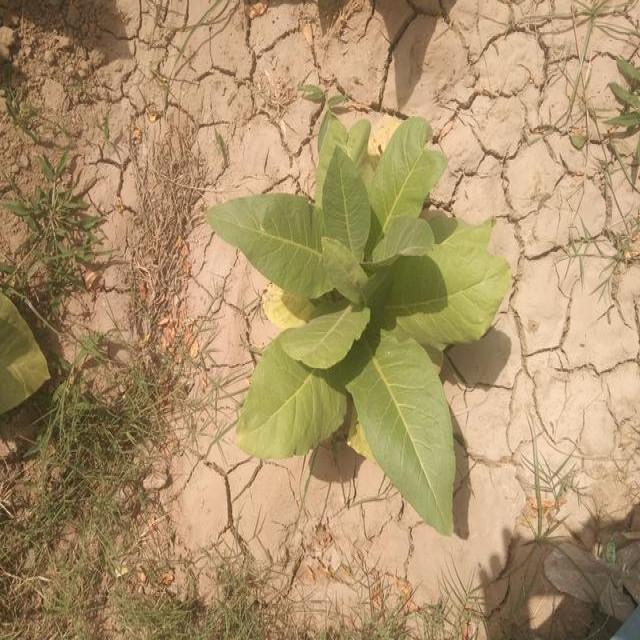crop: (218, 118, 506, 532), (0, 285, 47, 407)
